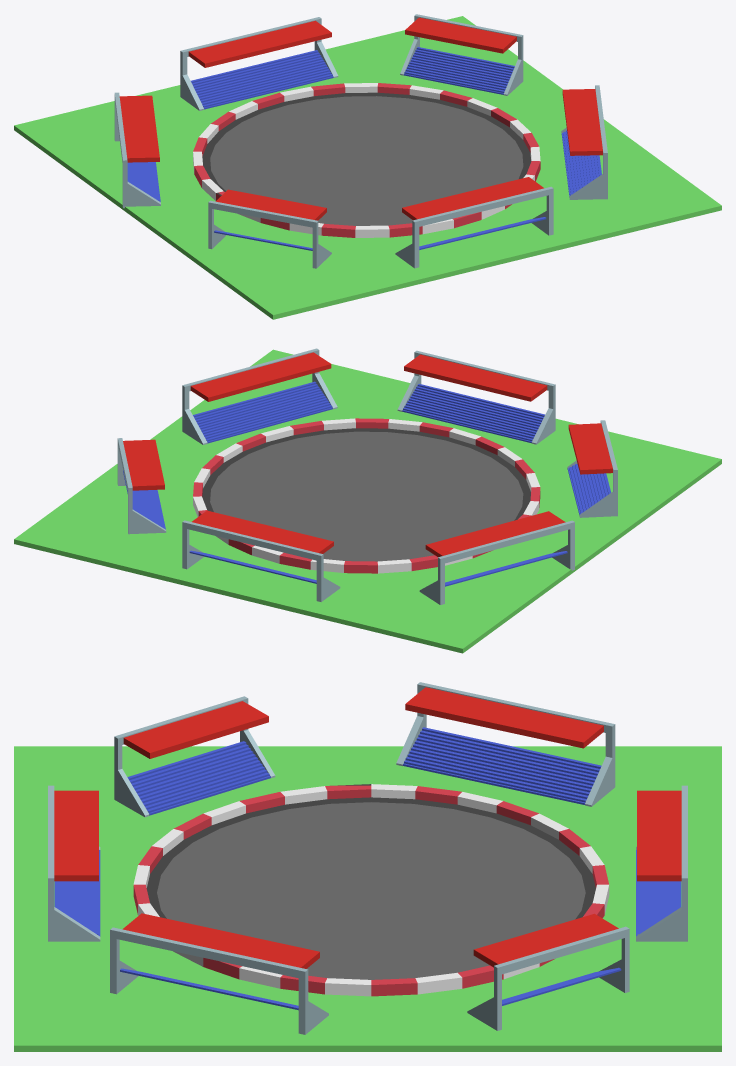
Rendered from level1_textured.fbx.
3 views of the same model, one above another, from view 1: azimuth 30°, elevation 25°; view 2: azimuth 150°, elevation 25°; view 3: azimuth 270°, elevation 25° (orthographic). The views are drawn at different scales.
Parts seen in each view (by area): view 1: Ground, Cylinder, Bleachers, Bleachers.003, Bleachers.001, Bleachers.004, Bleachers.005, Bleachers.002; view 2: Ground, Cylinder, Bleachers.001, Bleachers.004, Bleachers.005, Bleachers, Bleachers.002, Bleachers.003; view 3: Ground, Cylinder, Bleachers.005, Bleachers.002, Bleachers.004, Bleachers.001, Bleachers, Bleachers.003.
Part boxes in pixels (left/top/right/bottom): Ground: left=14, top=16, right=721, bottom=319; Cylinder: left=193, top=83, right=540, bottom=237; Bleachers: left=180, top=17, right=338, bottom=110; Bleachers.003: left=400, top=14, right=523, bottom=95; Bleachers.001: left=395, top=177, right=553, bottom=268; Bleachers.004: left=561, top=85, right=607, bottom=199; Bleachers.005: left=114, top=92, right=160, bottom=208; Bleachers.002: left=208, top=189, right=331, bottom=268; Ground: left=14, top=349, right=721, bottom=653; Cylinder: left=193, top=418, right=540, bottom=573; Bleachers.001: left=397, top=350, right=555, bottom=444; Bleachers.004: left=182, top=348, right=337, bottom=444; Bleachers.005: left=419, top=511, right=574, bottom=604; Bleachers: left=182, top=510, right=340, bottom=601; Bleachers.002: left=567, top=420, right=617, bottom=517; Bleachers.003: left=117, top=438, right=166, bottom=534; Ground: left=14, top=746, right=721, bottom=1051; Cylinder: left=133, top=784, right=609, bottom=996; Bleachers.005: left=396, top=682, right=615, bottom=806; Bleachers.002: left=114, top=696, right=275, bottom=817; Bleachers.004: left=110, top=913, right=328, bottom=1034; Bleachers.001: left=48, top=785, right=100, bottom=941; Bleachers: left=636, top=785, right=687, bottom=941; Bleachers.003: left=467, top=913, right=629, bottom=1030.
Bounding box in the file's own units: 35844 × 3873 × 35717.
